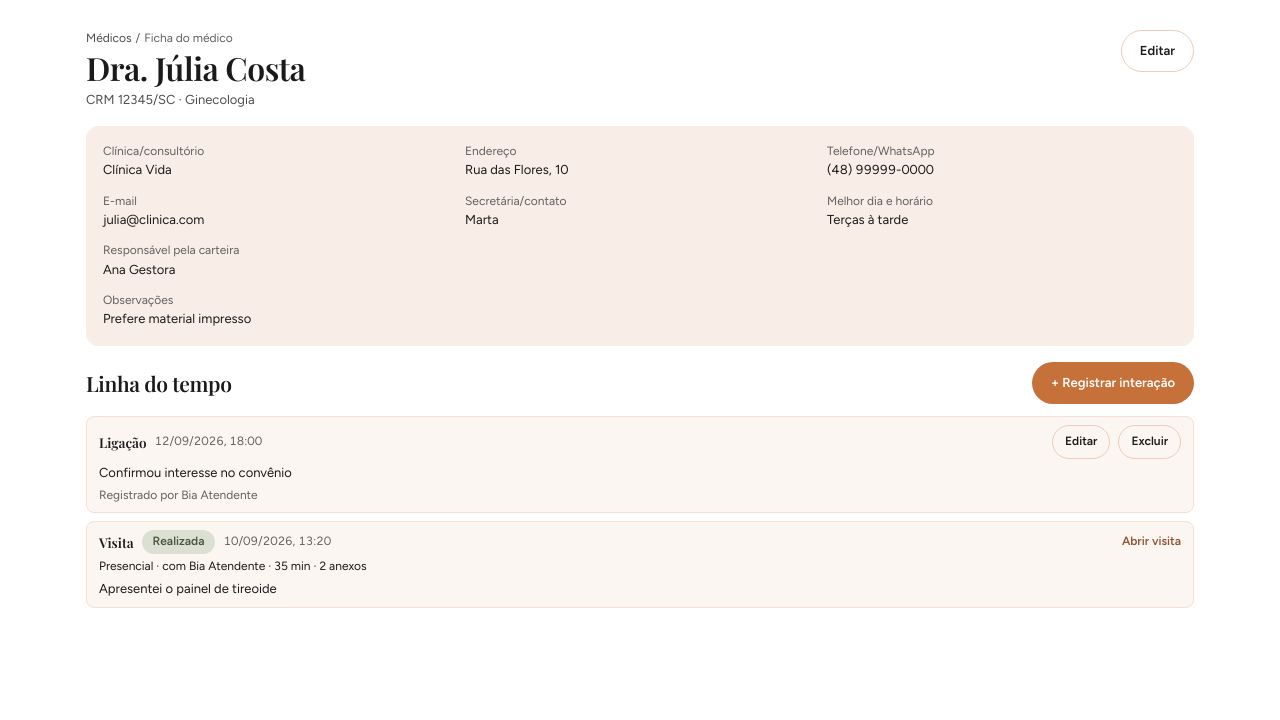
it: DoctorProfile (/visitation/doctors/:id) › registra interação: tipo, data/hora local em ISO e descrição sem espaço
Click the button "+ Registrar interação" at (1113, 383), box left=1032, top=362, right=1194, bottom=404
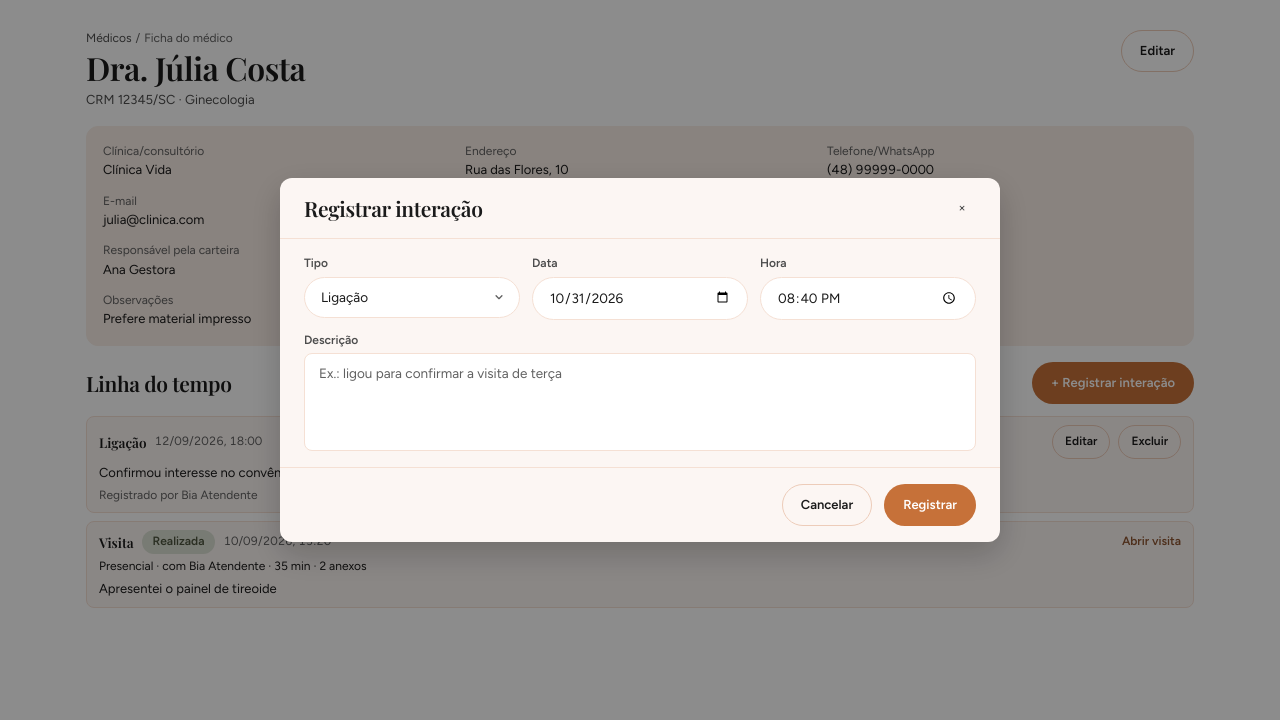
Select "WhatsApp" in the dropdown labelled "Tipo" at (412, 297), box left=304, top=277, right=520, bottom=318
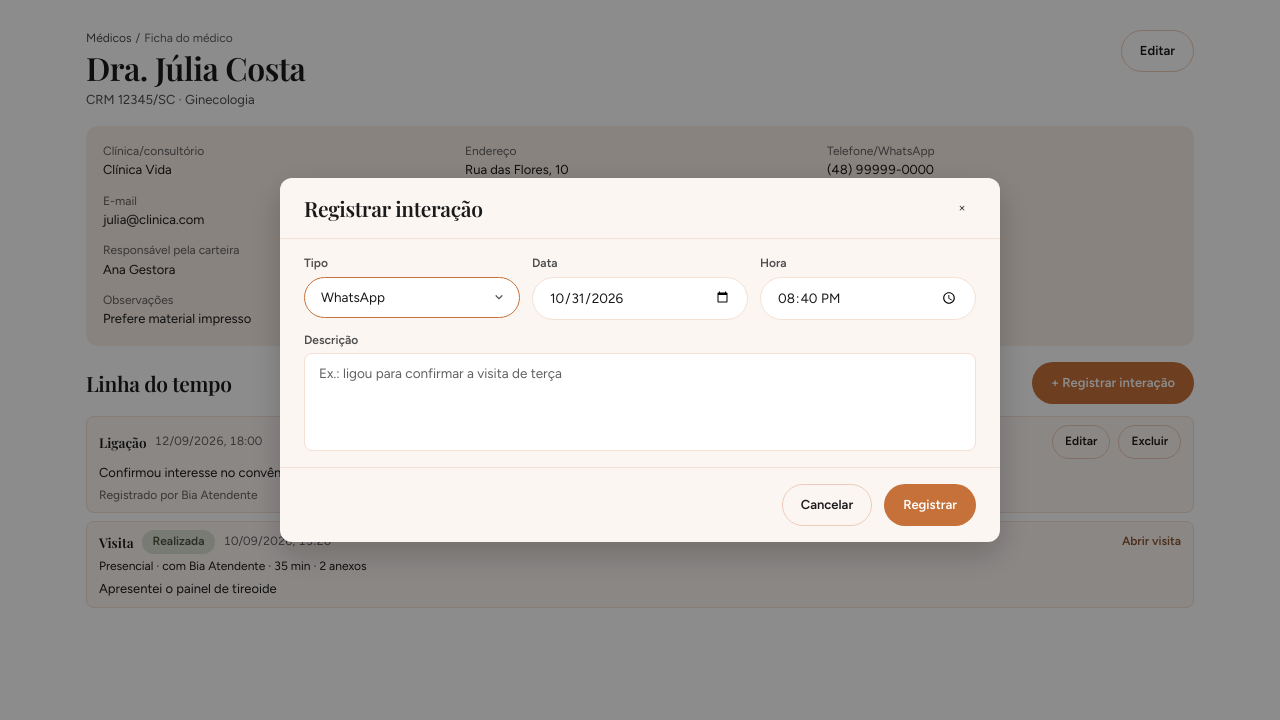
Type "2026-10-02" into the date field labelled "Data" at (640, 298), box left=549, top=288, right=731, bottom=309
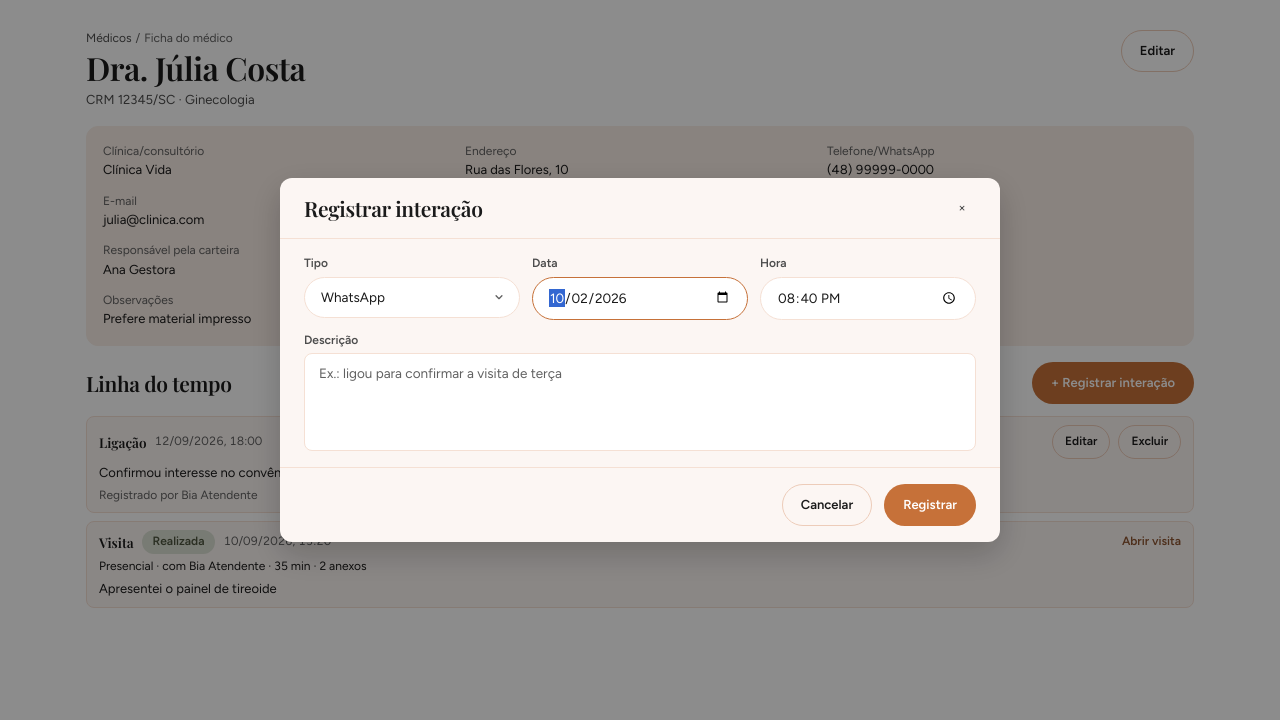
Replace the text in the time field labelled "Hora" with "14:30" at (868, 298), box left=777, top=288, right=959, bottom=309
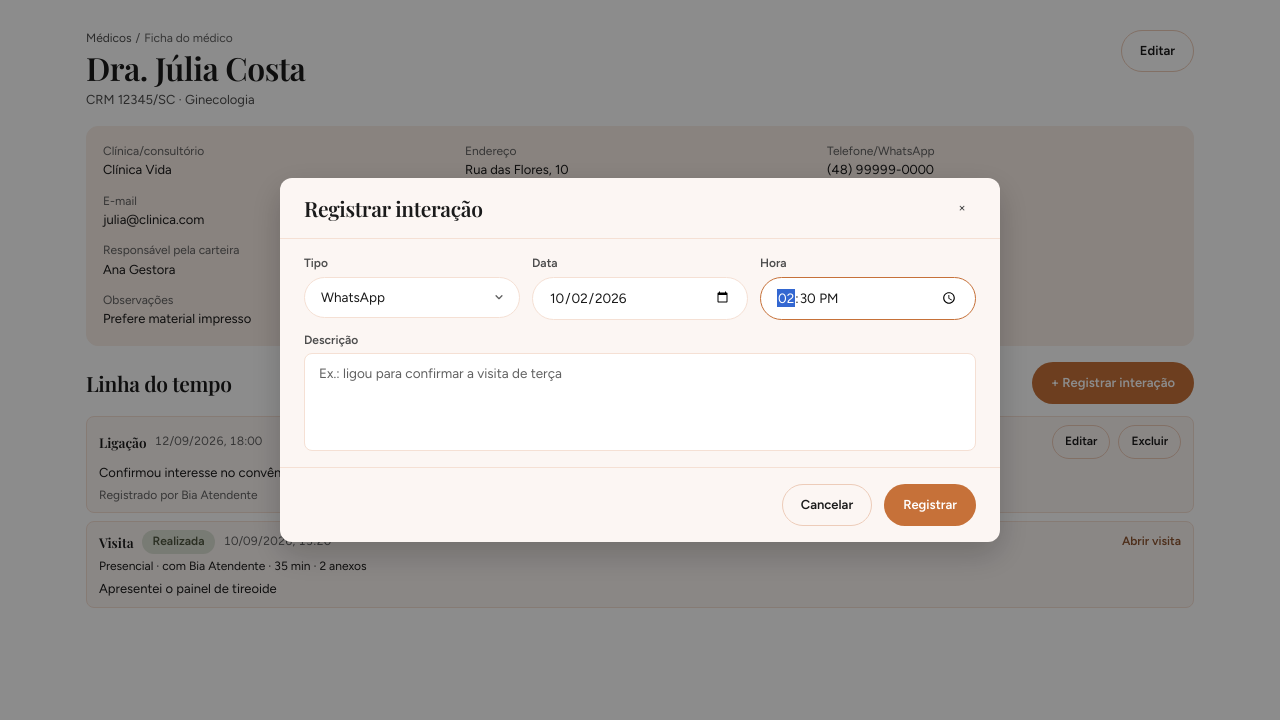
Type "  Mandou a tabela de exames  " into the text box labelled "Descrição" at (640, 402), box left=304, top=353, right=976, bottom=451
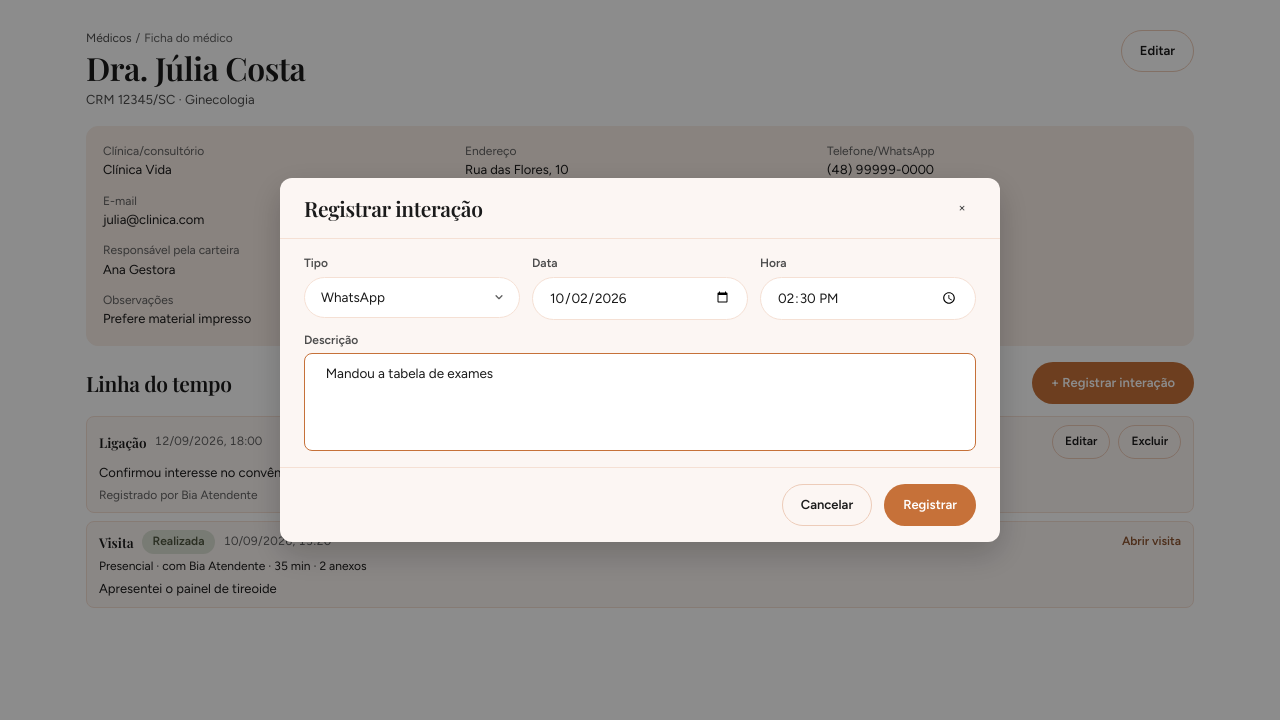
Click the button "Registrar" at (930, 505), box left=884, top=484, right=976, bottom=526
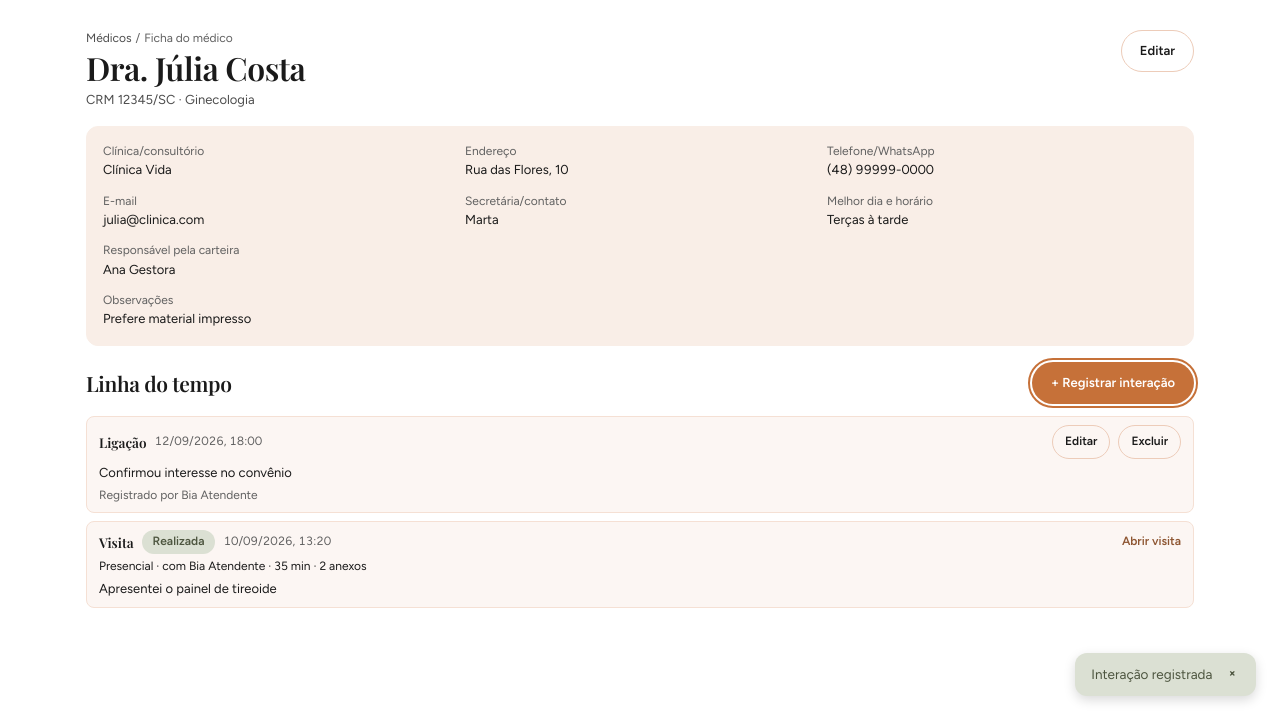
Result: the dialog is gone
